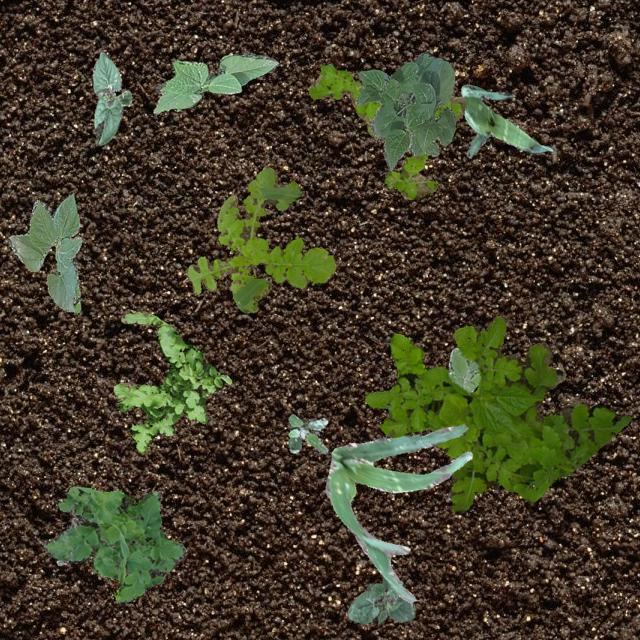crop: (324, 424, 472, 602), (354, 52, 454, 170), (8, 192, 80, 312), (152, 51, 278, 112), (459, 84, 552, 156), (92, 50, 130, 144), (346, 576, 414, 624), (56, 558, 62, 564)
weed: (364, 314, 632, 514), (184, 166, 334, 312), (308, 62, 464, 198), (112, 308, 230, 452), (42, 486, 185, 602), (446, 346, 479, 392), (288, 413, 326, 452)
